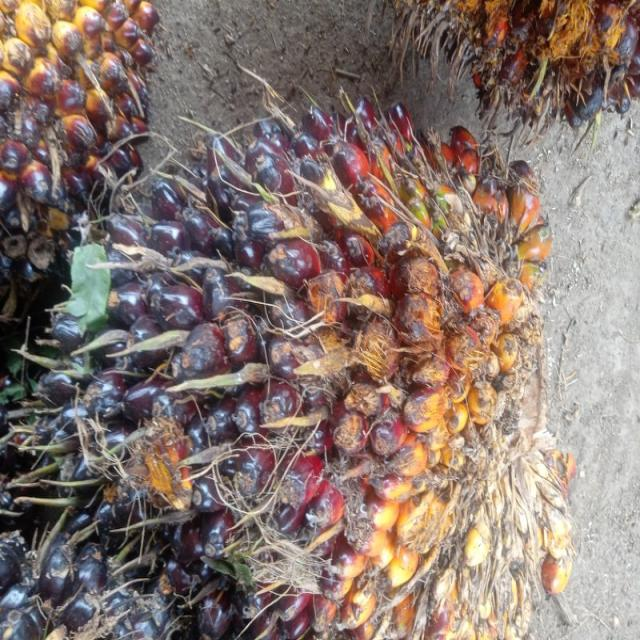fraksi 1: (38, 116, 577, 640)
